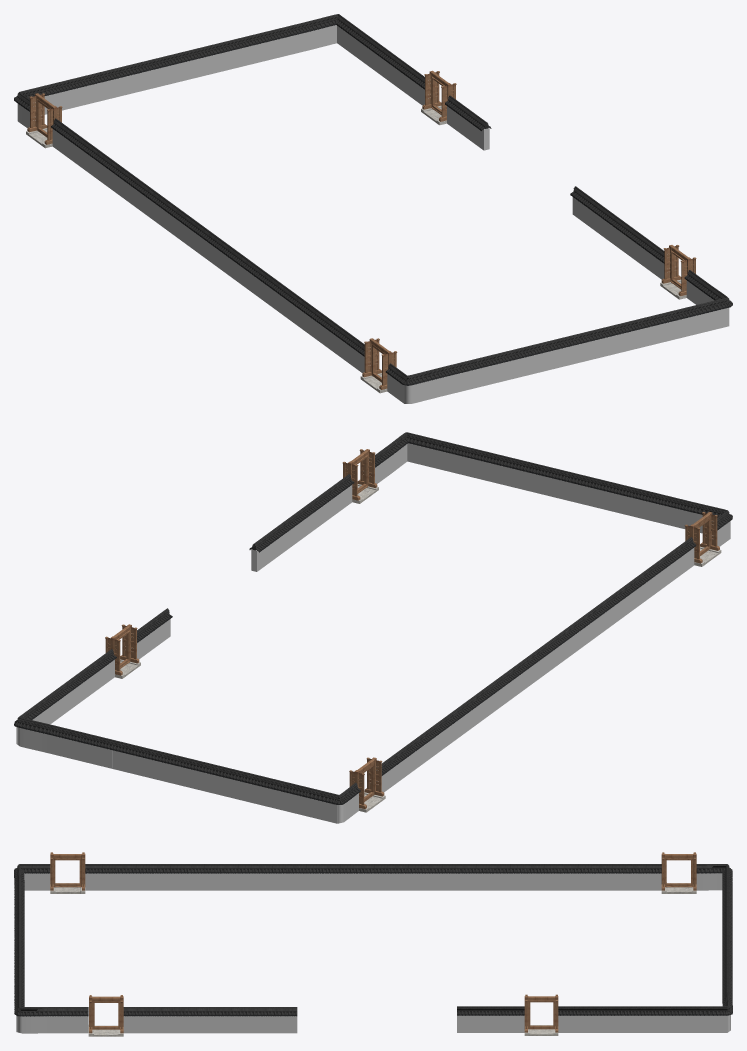
The model's file is SM_JSH_HG_StoneWallH_Splines_25.fbx.
The picture shows the model from 3 angles, top to bottom: view 1: azimuth 30°, elevation 25°; view 2: azimuth 150°, elevation 25°; view 3: azimuth 270°, elevation 25°; orthographic projection. The views are drawn at different scales.
Visible parts, largest first — view 1: SM_JSH_HG_StoneWallH_Splines_25; view 2: SM_JSH_HG_StoneWallH_Splines_25; view 3: SM_JSH_HG_StoneWallH_Splines_25.
Part boxes in pixels (bbox=[...]): SM_JSH_HG_StoneWallH_Splines_25: bbox=[14, 14, 732, 403]; SM_JSH_HG_StoneWallH_Splines_25: bbox=[14, 432, 732, 823]; SM_JSH_HG_StoneWallH_Splines_25: bbox=[14, 852, 732, 1036].
Size of the model in its own units: 2316 by 4628 by 248.
